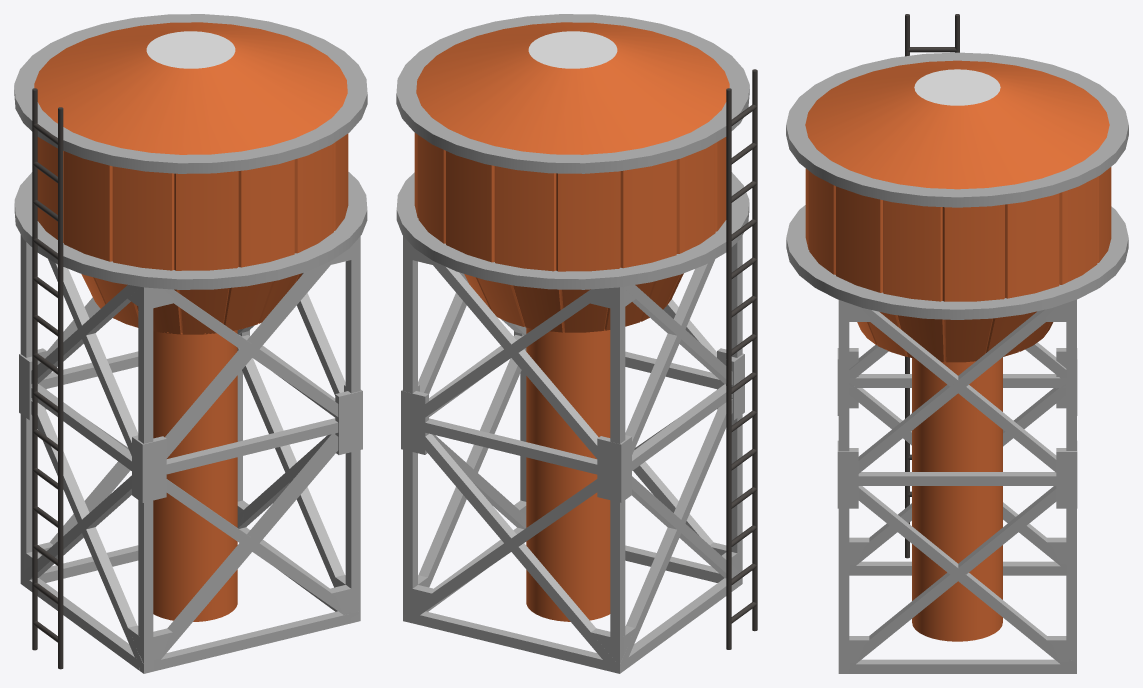
Rendered from sudeposu.fbx.
3 views of the same model, side by side, from view 1: azimuth 30°, elevation 25°; view 2: azimuth 150°, elevation 25°; view 3: azimuth 270°, elevation 25° (orthographic). The views are drawn at different scales.
Visible parts, largest first — view 1: duba, metal, merdive; view 2: duba, metal, merdive; view 3: duba, metal, merdive.
Part boxes in pixels (<box>): duba: <box>14,14,367,621</box>; metal: <box>19,234,362,673</box>; merdive: <box>32,88,63,669</box>; duba: <box>396,14,749,621</box>; metal: <box>401,235,744,673</box>; merdive: <box>726,69,757,649</box>; duba: <box>786,52,1128,641</box>; metal: <box>837,299,1077,673</box>; merdive: <box>905,14,959,558</box>.
Bounding box in the file's own units: 165 × 283 × 162.
